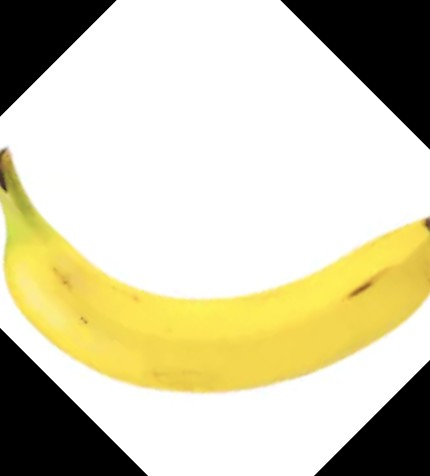fresh_banana: (1, 147, 430, 395)
